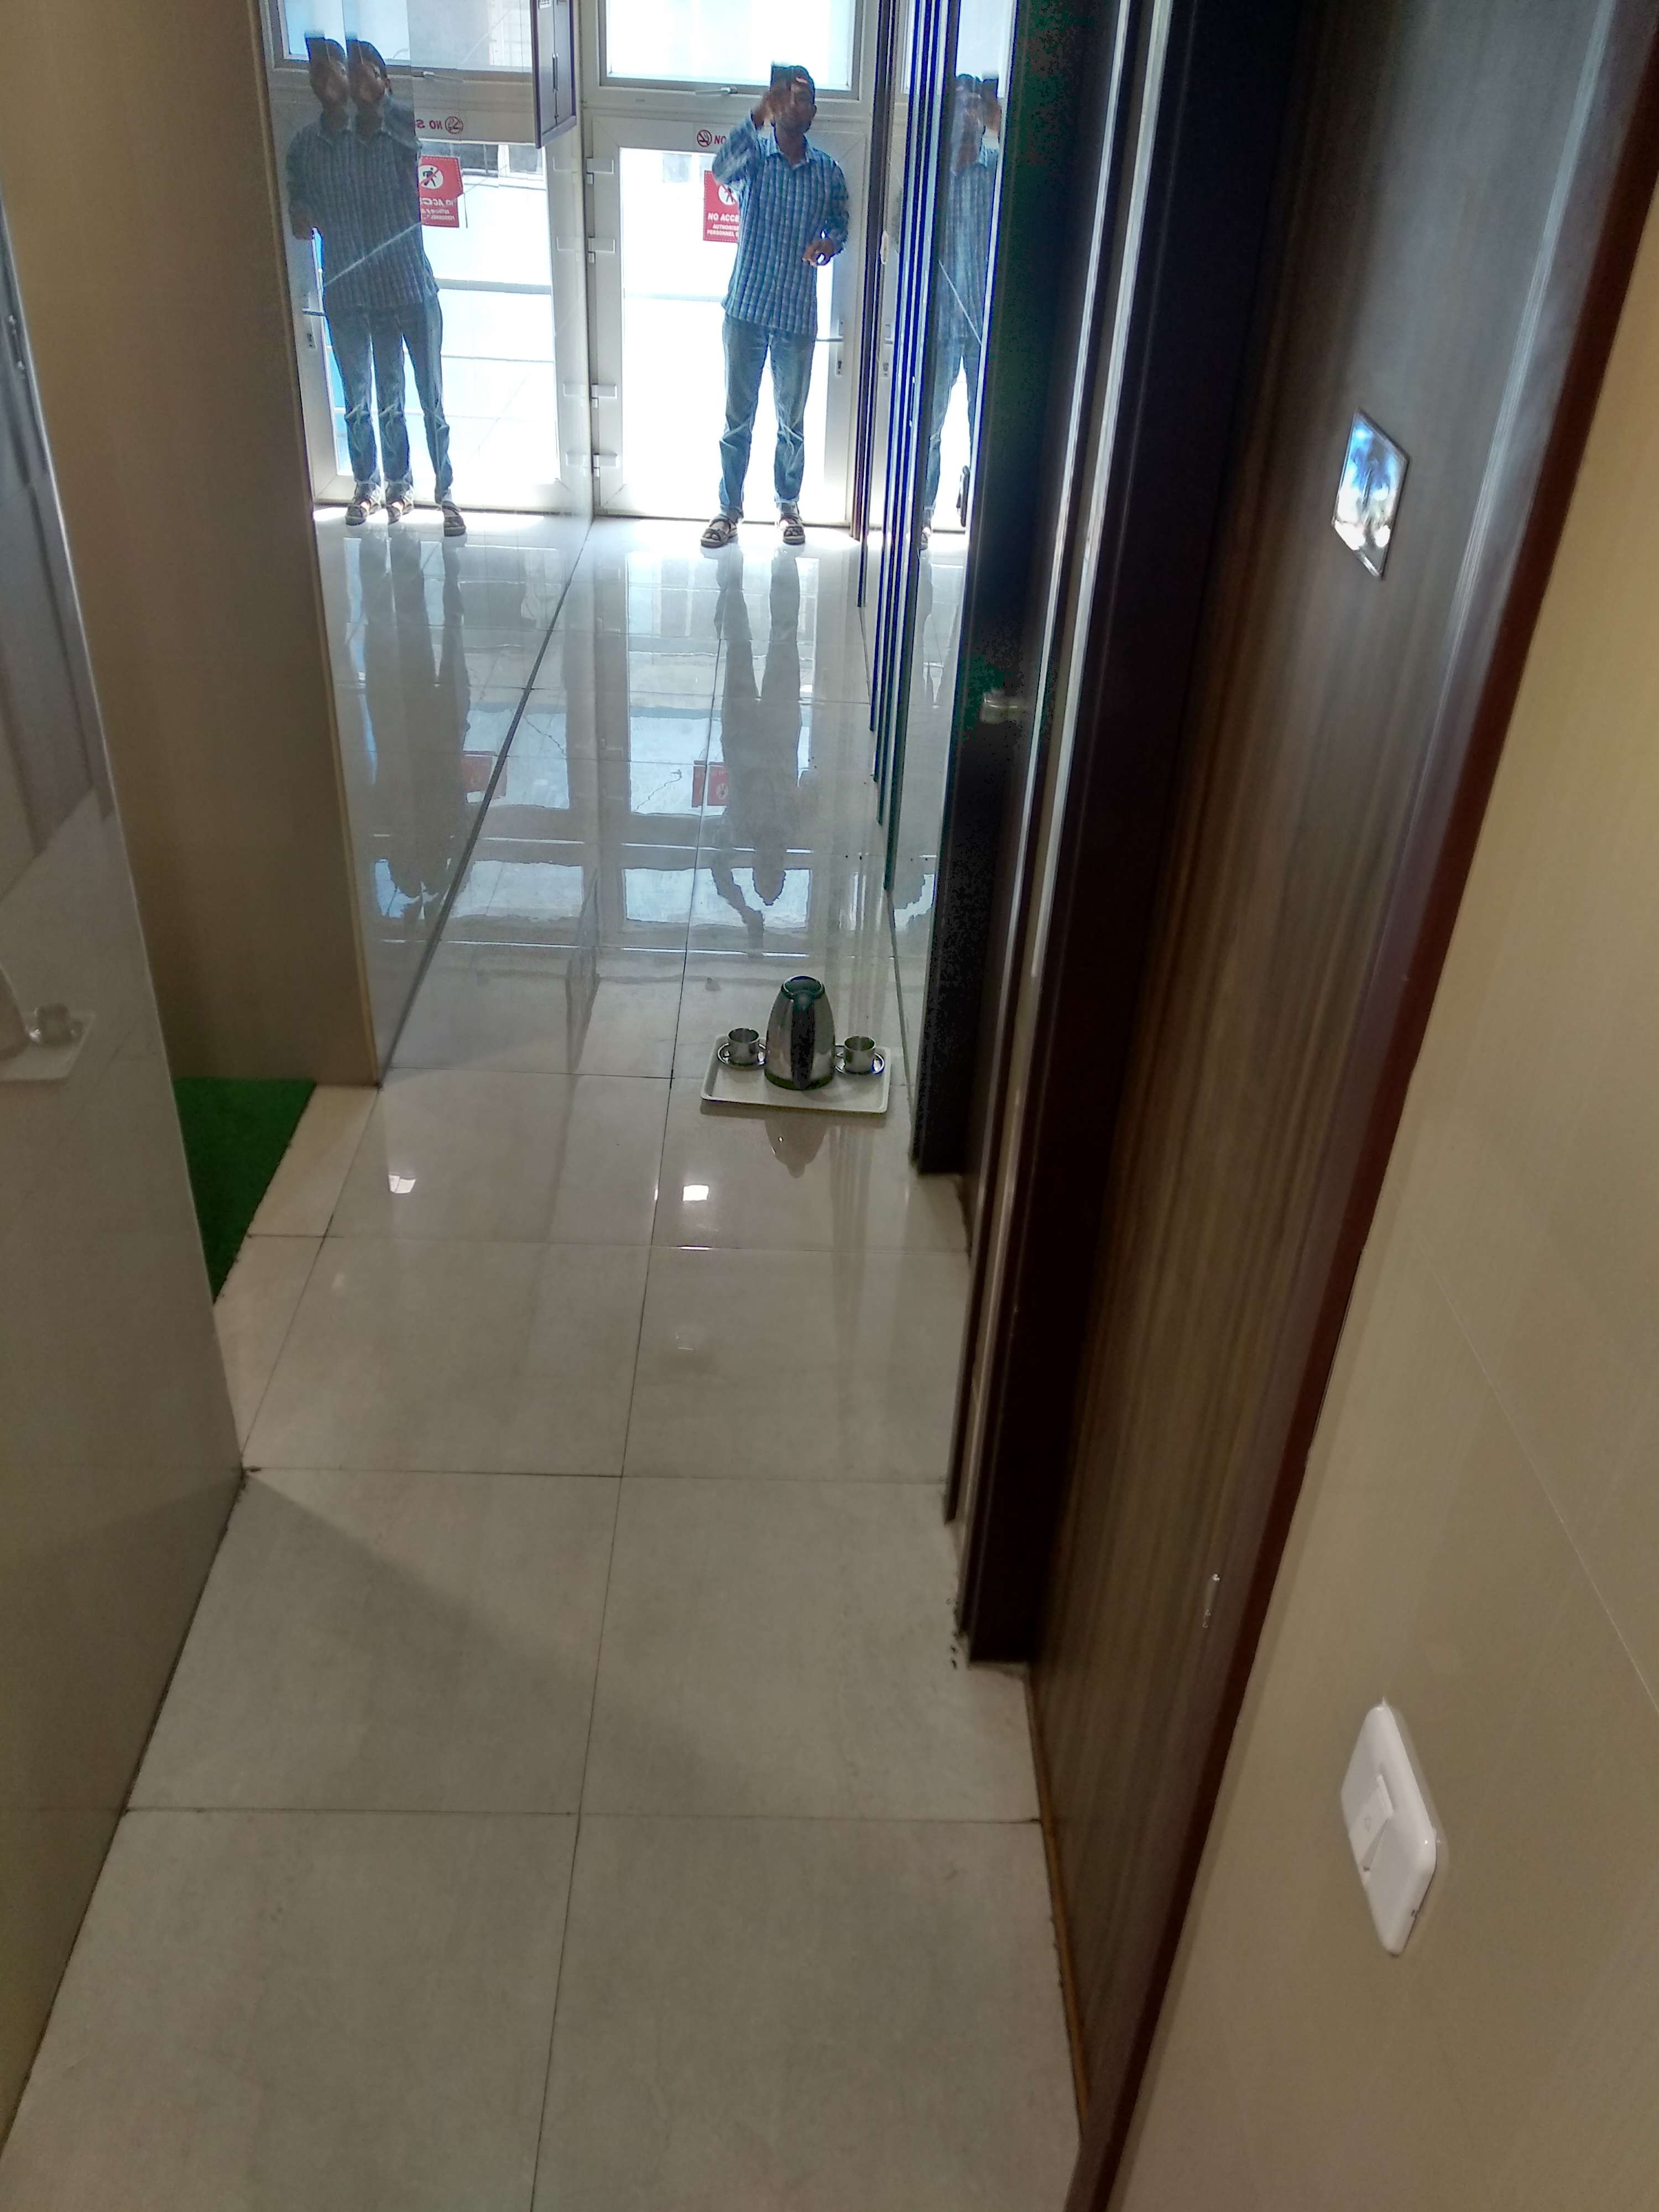CUP: (723, 1026, 763, 1068), (842, 1031, 878, 1076)
JUG: (767, 974, 836, 1092)
